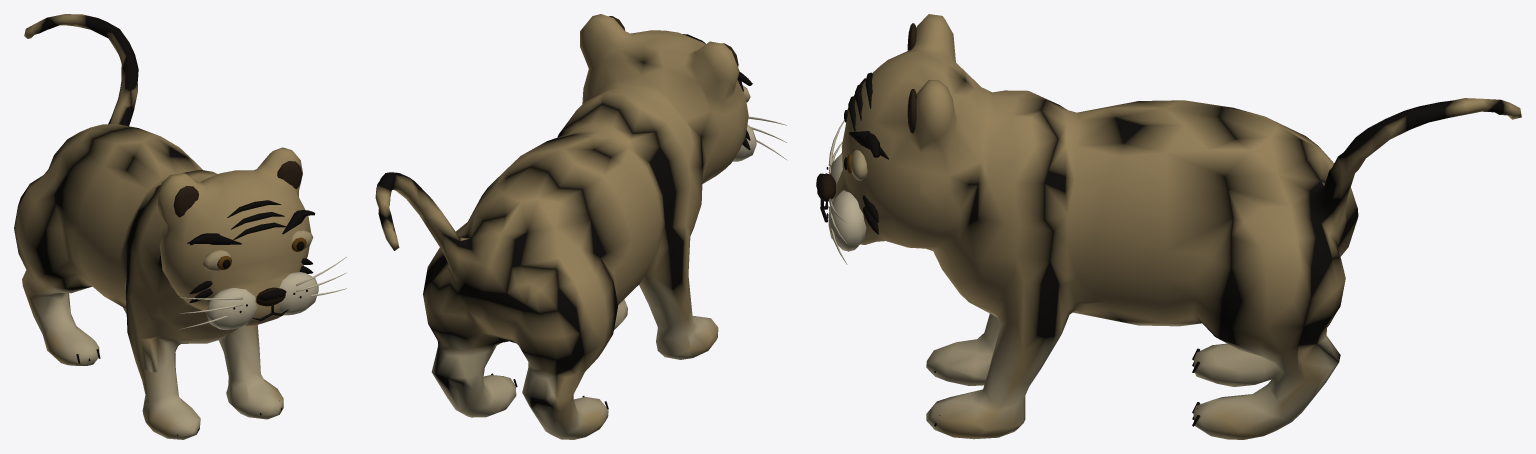
File: Beast_FolkTiger_B2.fbx
3 renders of one model, left to right at view 1: azimuth 30°, elevation 25°; view 2: azimuth 150°, elevation 25°; view 3: azimuth 270°, elevation 25°, orthographic. The views are drawn at different scales.
Parts seen in each view (by area): view 1: Beast_FolkTiger_B2; view 2: Beast_FolkTiger_B2; view 3: Beast_FolkTiger_B2.
Part boxes in pixels (bbox=[...]): Beast_FolkTiger_B2: bbox=[14, 14, 346, 439]; Beast_FolkTiger_B2: bbox=[375, 14, 787, 439]; Beast_FolkTiger_B2: bbox=[816, 14, 1521, 439].
Size of the model in its own units: 0.3597 by 0.562 by 1.
